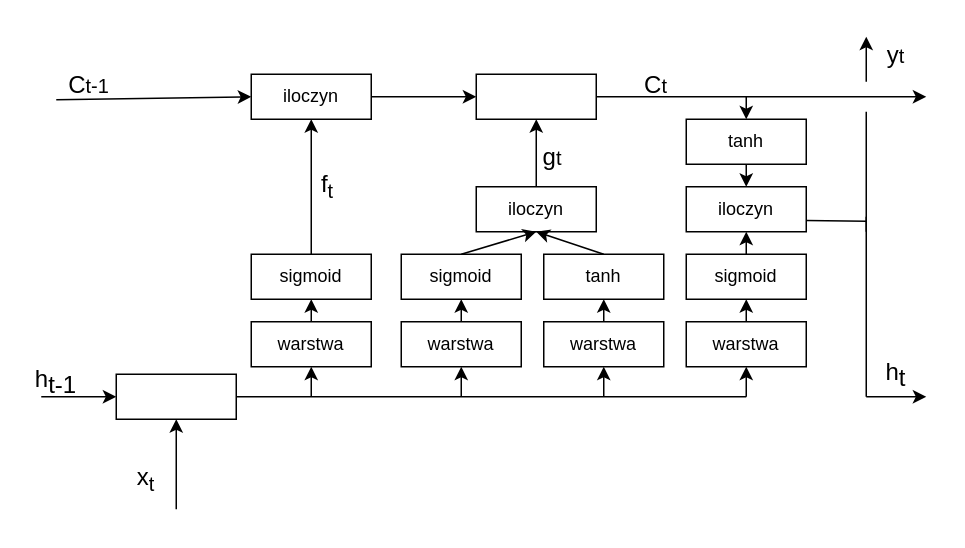
The diagram is 965 pixels wide and 548 high, and some of its shapes have lost their labels. The shapes that lost their labels are listed below. From the top down, each one's box as (x1, y1, x2, y2) in pixels, then its label:
(475, 73, 596, 119): suma
(115, 373, 236, 419): konkatenacja
